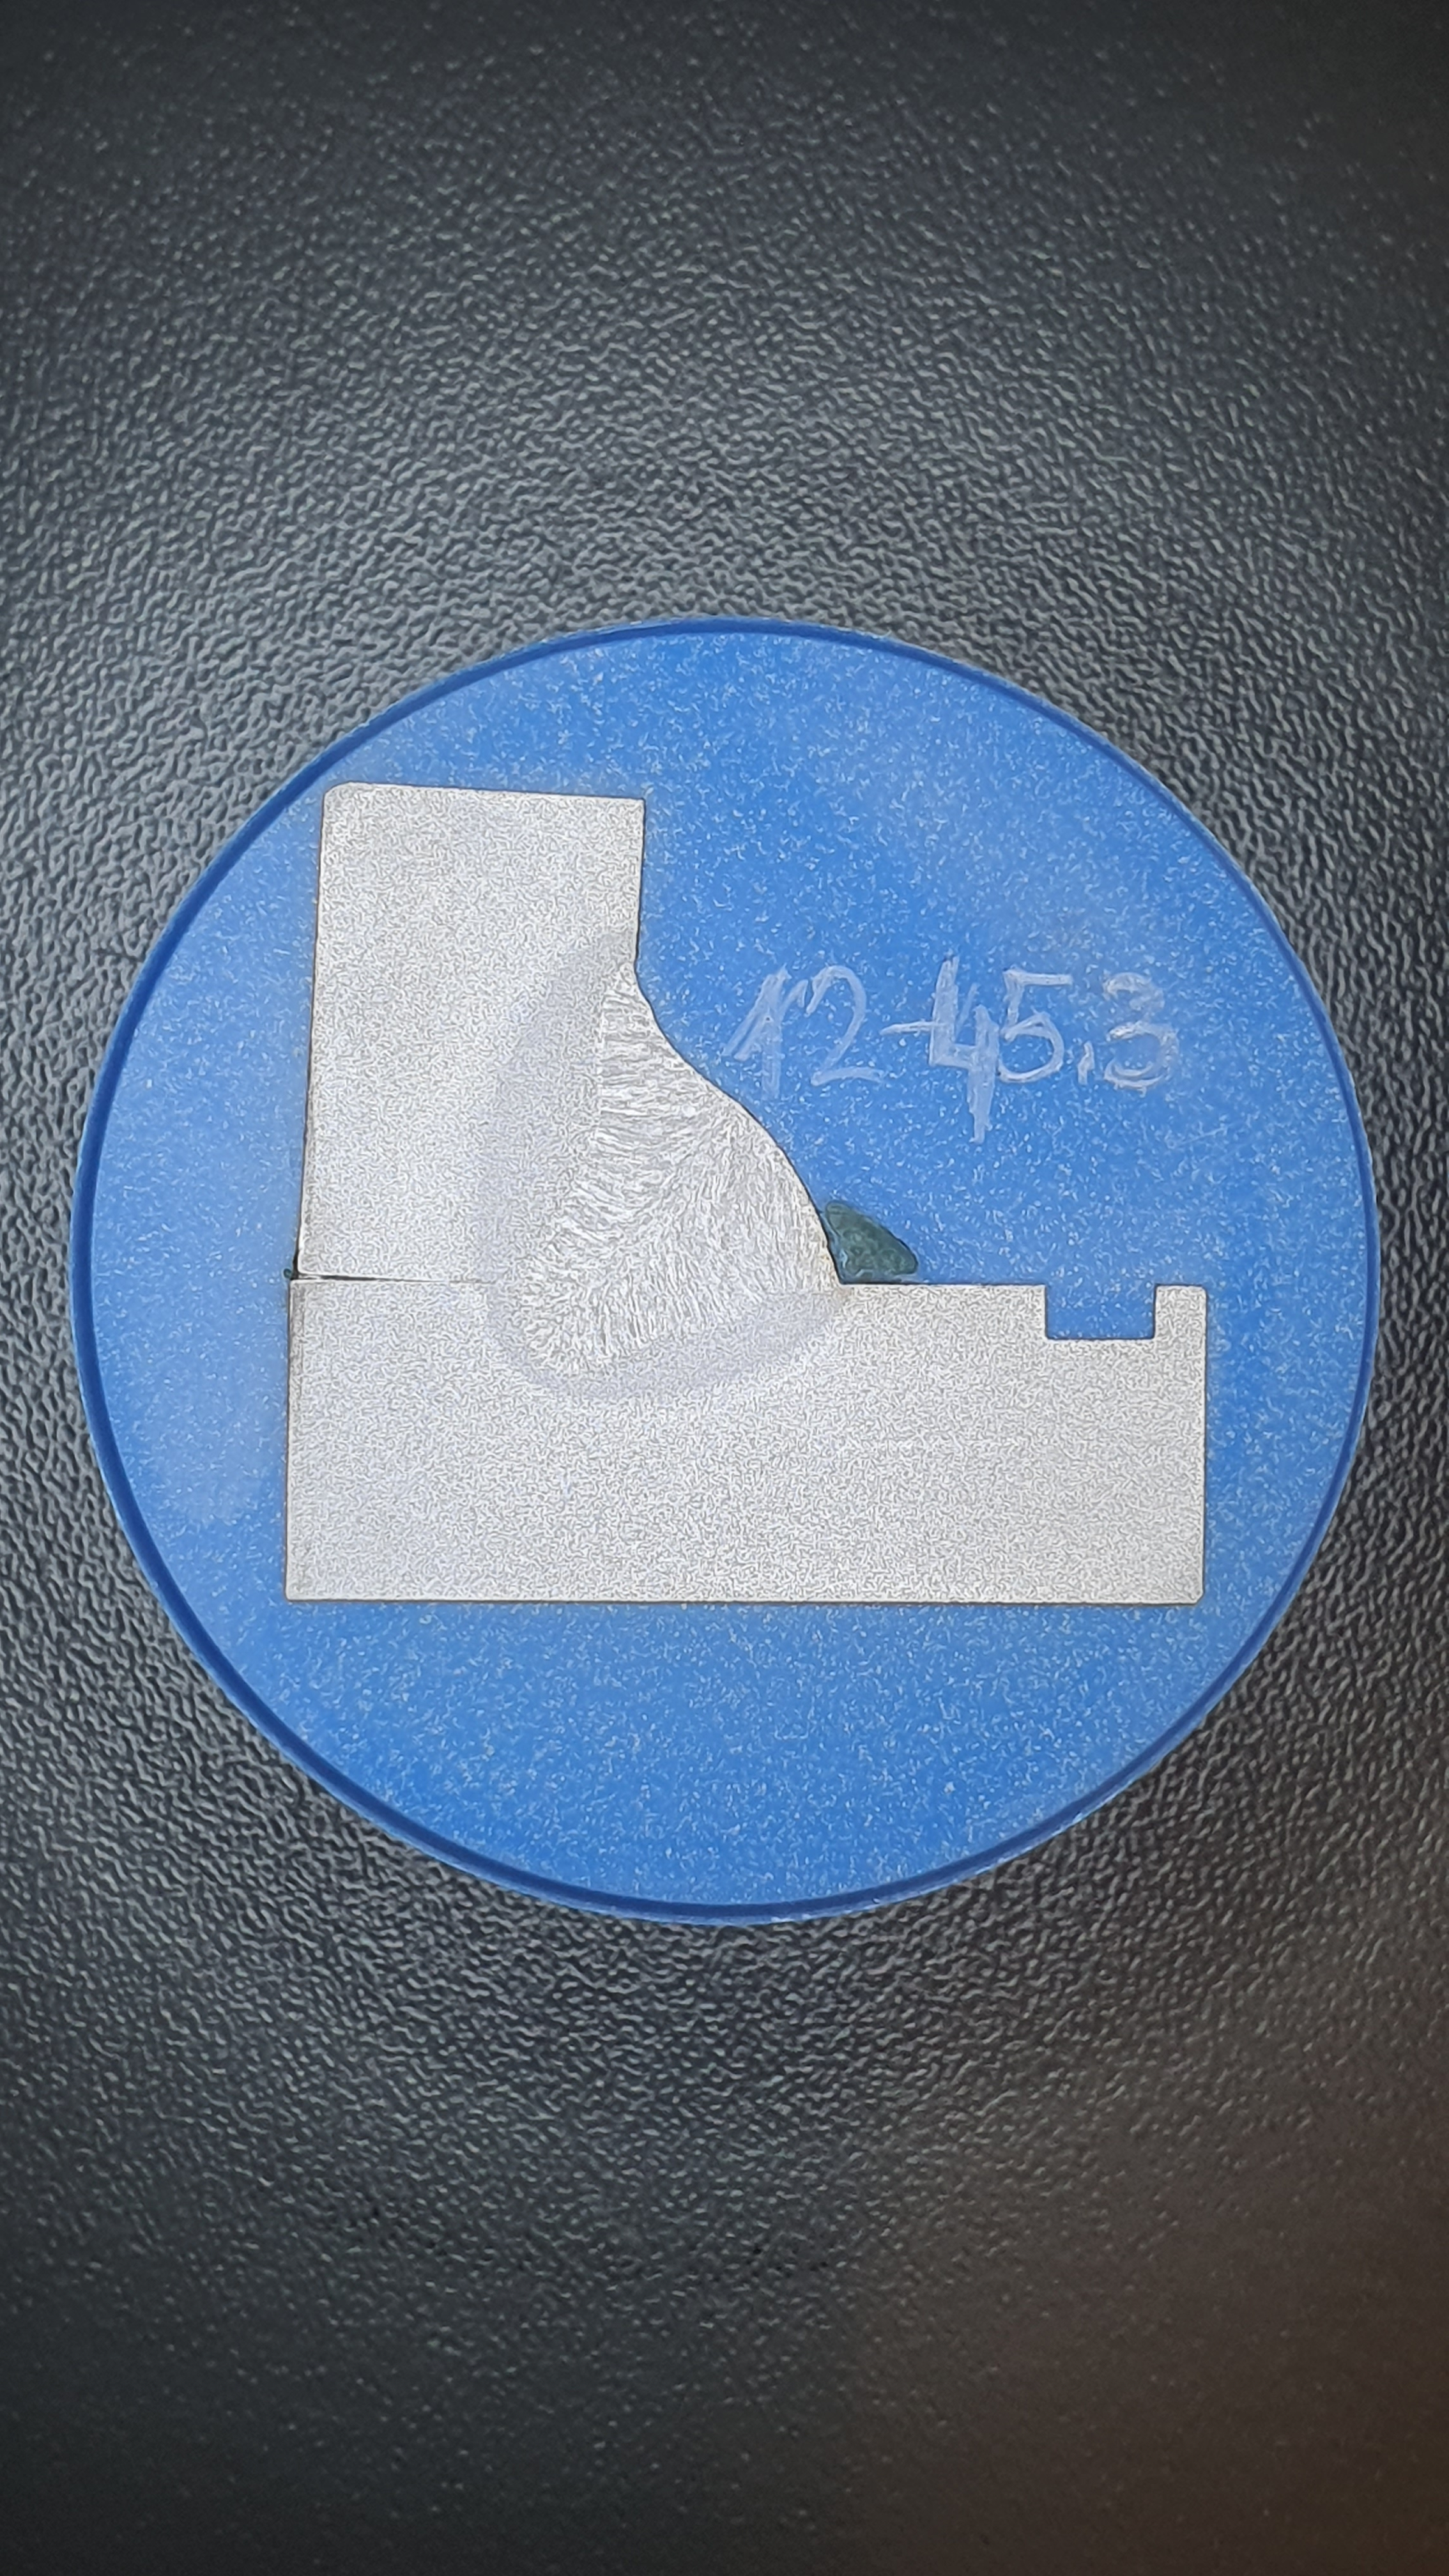Fusion: (519, 962, 839, 1370)
Hintergrund: (92, 630, 1371, 1905)
Metall: (284, 781, 1207, 1605)
Nebenbereich: (470, 916, 854, 1403)
